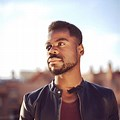person: (44, 21, 85, 79)
